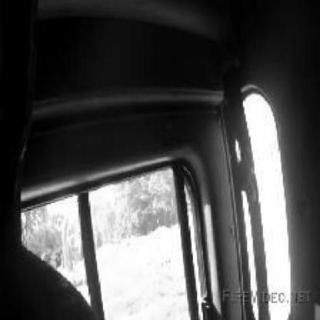other: (237, 93, 285, 290), (76, 240, 174, 266), (49, 193, 119, 217)
